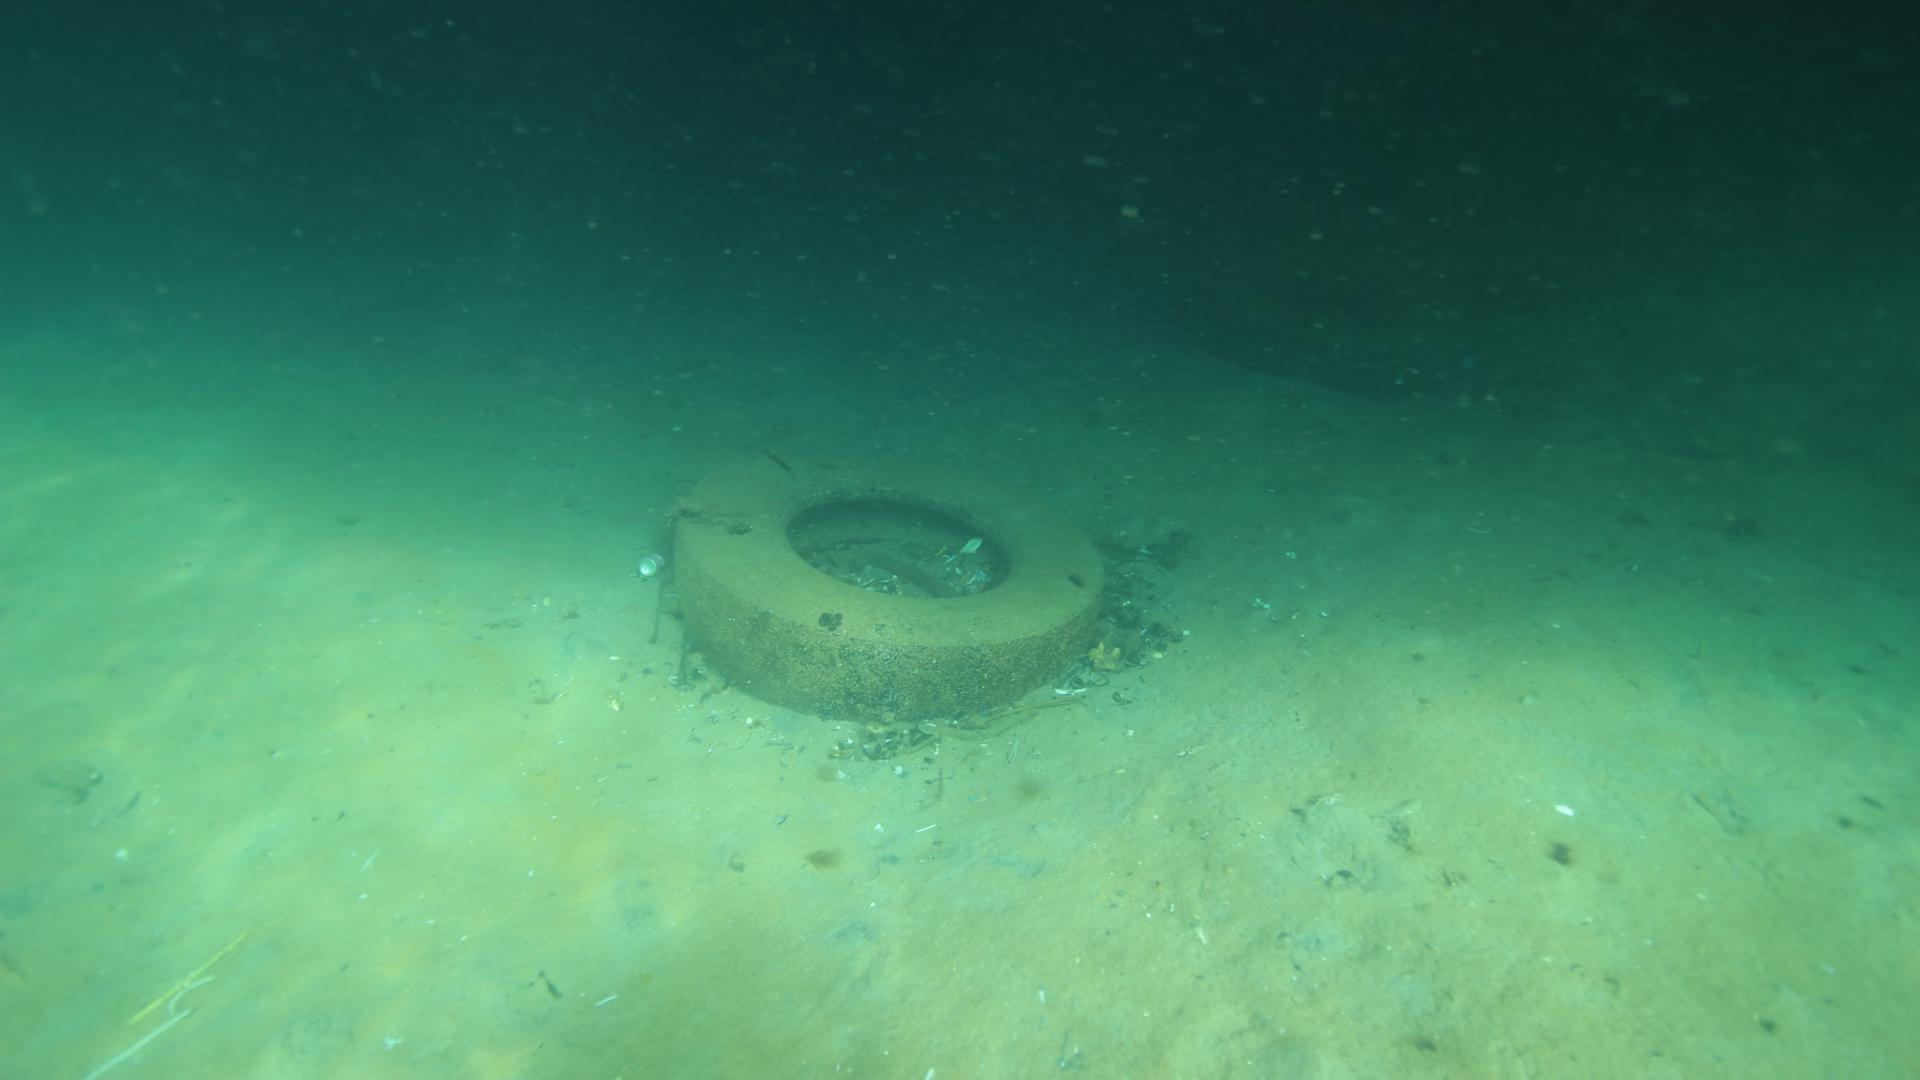tire: (670, 444, 1108, 725)
